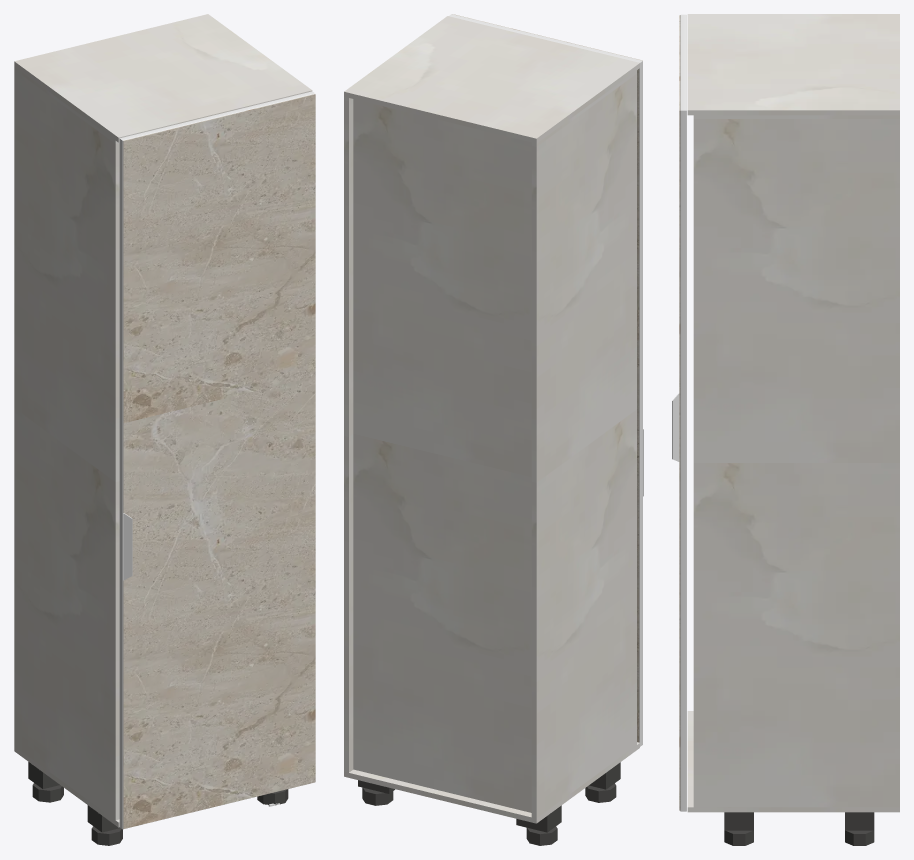
The model's file is TCR1HS_LH (H2040xW600xD560).glb.
The picture shows the model from 3 angles, left to right: view 1: azimuth 30°, elevation 25°; view 2: azimuth 150°, elevation 25°; view 3: azimuth 270°, elevation 25°; orthographic projection. The views are drawn at different scales.
Size of what is drawn, in the model's own units: 0.6 by 2.14 by 0.6.
Materials: 6 (2 with a texture image).
